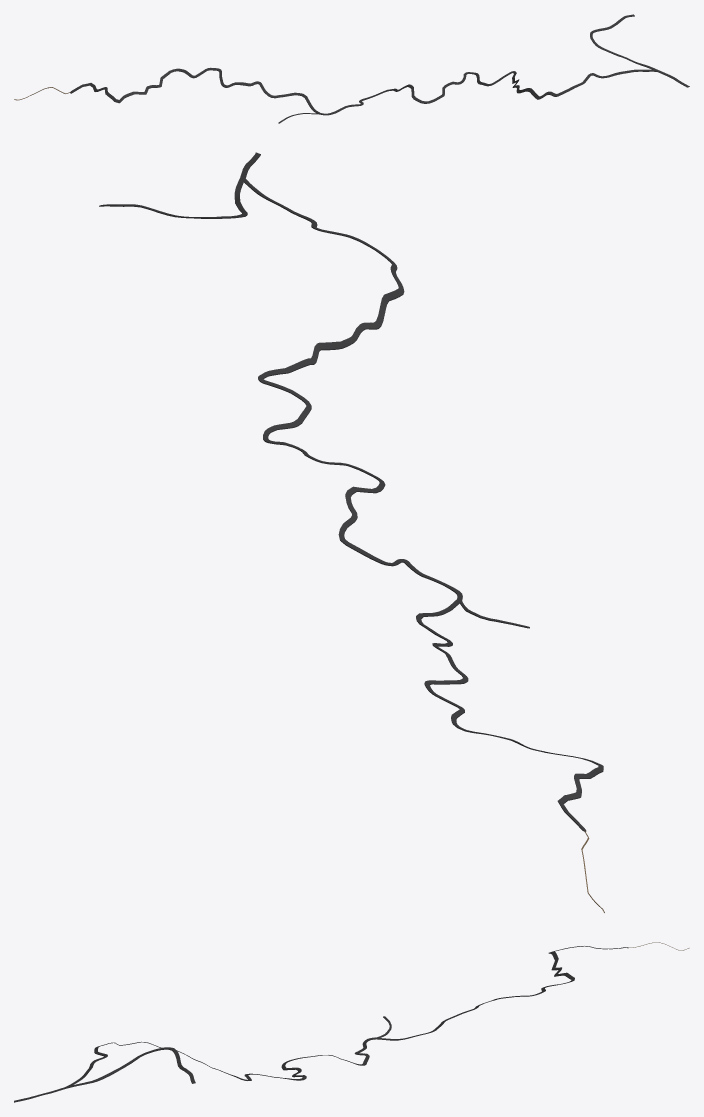
The picture shows the model from 3 angles, top to bottom: view 1: azimuth 30°, elevation 25°; view 2: azimuth 150°, elevation 25°; view 3: azimuth 270°, elevation 25°; orthographic projection. The views are drawn at different scales.
Bounding box in the file's own units: 1173 × 295 × 1167.
